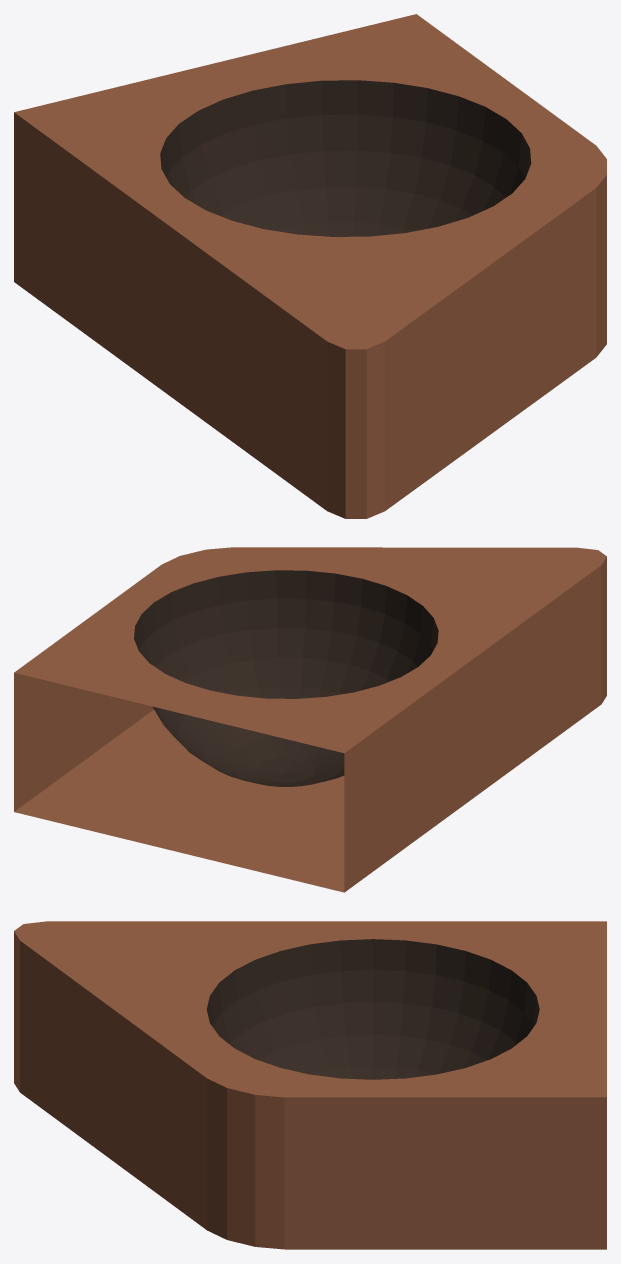
Rendered from Triangular Cannon Ball Holder End Piece.fbx.
3 renders of one model, top to bottom at view 1: azimuth 30°, elevation 25°; view 2: azimuth 150°, elevation 25°; view 3: azimuth 270°, elevation 25°, orthographic. The views are drawn at different scales.
Parts seen in each view (by area): view 1: Triangular Cannon Ball Holder End Piece; view 2: Triangular Cannon Ball Holder End Piece; view 3: Triangular Cannon Ball Holder End Piece.
Boxes of the visible parts, bbox=[...] form: Triangular Cannon Ball Holder End Piece: bbox=[14, 14, 606, 518]; Triangular Cannon Ball Holder End Piece: bbox=[14, 547, 606, 892]; Triangular Cannon Ball Holder End Piece: bbox=[14, 921, 606, 1249].
Size of the model in its own units: 250 by 101 by 356.
